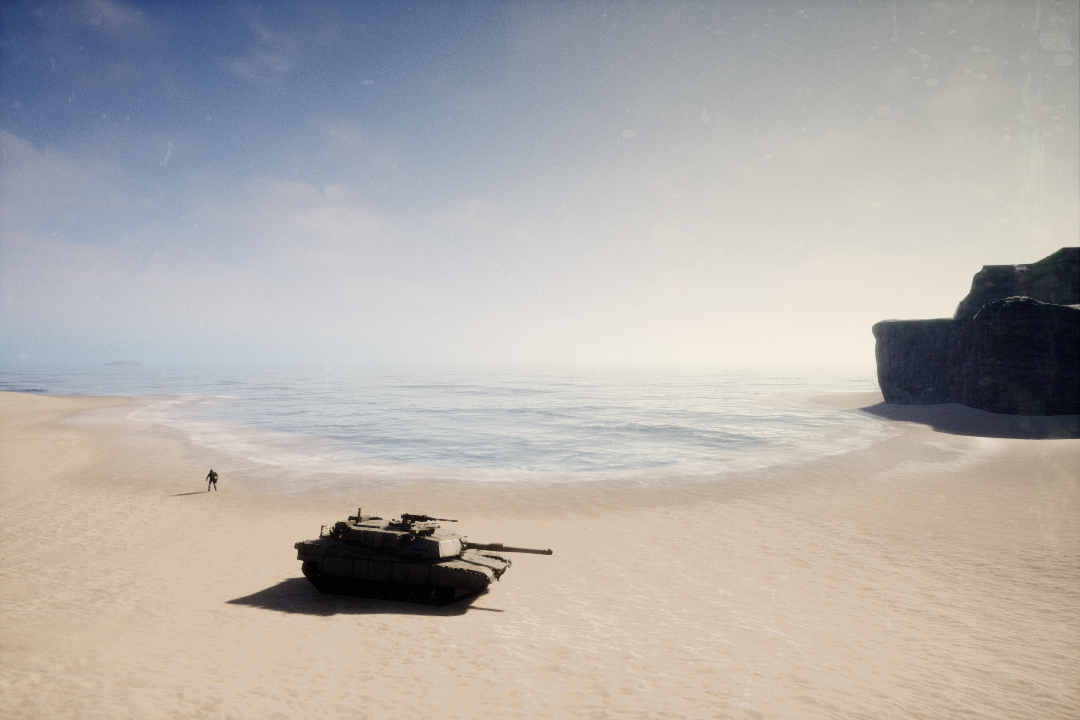person: (205, 463, 222, 492)
tank: (294, 506, 556, 602)
